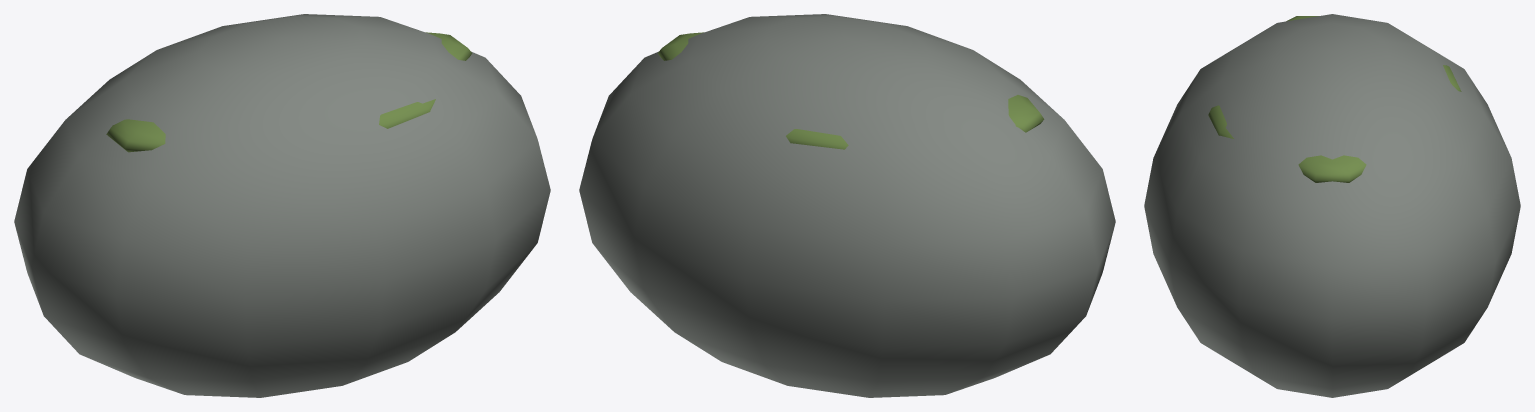
Rendered from SM_MossBoulder.fbx.
The picture shows the model from 3 angles, left to right: view 1: azimuth 30°, elevation 25°; view 2: azimuth 150°, elevation 25°; view 3: azimuth 270°, elevation 25°; orthographic projection. The views are drawn at different scales.
Visible parts, largest first — view 1: Weathered_boulder, Moss_cushion.002, Moss_cushion.003, Moss_cushion; view 2: Weathered_boulder, Moss_cushion.002, Moss_cushion.001, Moss_cushion; view 3: Weathered_boulder, Moss_cushion, Moss_cushion.003.
Boxes of the visible parts, box(x1,y1,x2,y2) form: Weathered_boulder: box(14, 14, 550, 397); Moss_cushion.002: box(106, 119, 165, 152); Moss_cushion.003: box(379, 99, 435, 128); Moss_cushion: box(426, 32, 472, 60); Weathered_boulder: box(579, 14, 1115, 397); Moss_cushion.002: box(1008, 95, 1044, 132); Moss_cushion.001: box(786, 129, 848, 149); Moss_cushion: box(657, 32, 703, 60); Weathered_boulder: box(1144, 14, 1520, 397); Moss_cushion: box(1298, 155, 1366, 182); Moss_cushion.003: box(1208, 105, 1233, 138).
Bounding box in the file's own units: 250 × 176 × 160.
